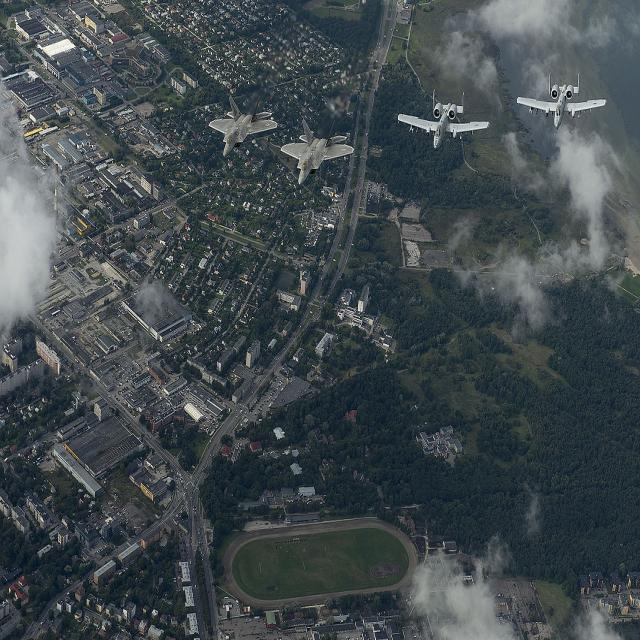MIL_Plane: (397, 89, 491, 151), (516, 70, 606, 130), (280, 117, 354, 186), (208, 95, 278, 158)
